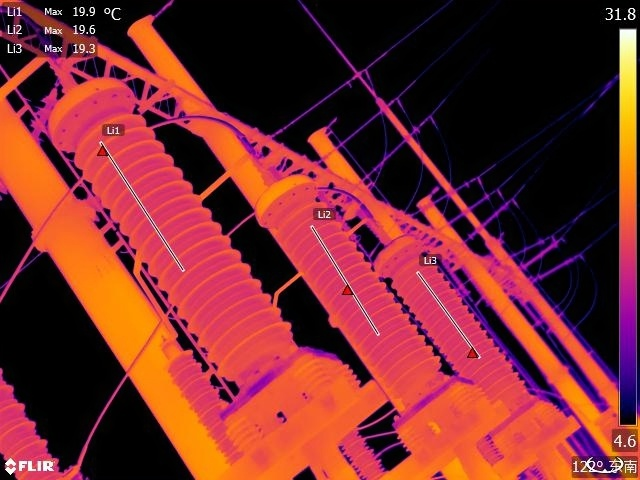post insulator: (1, 348, 97, 480), (164, 357, 242, 458), (344, 430, 383, 480)
potential transformer: (42, 63, 362, 439), (238, 148, 444, 408), (368, 210, 540, 423)
